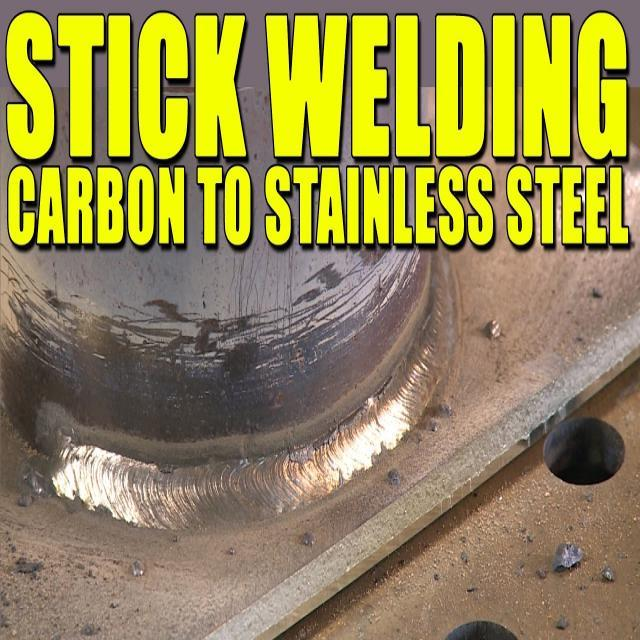Good Weld: (49, 428, 335, 522), (352, 338, 454, 478)
